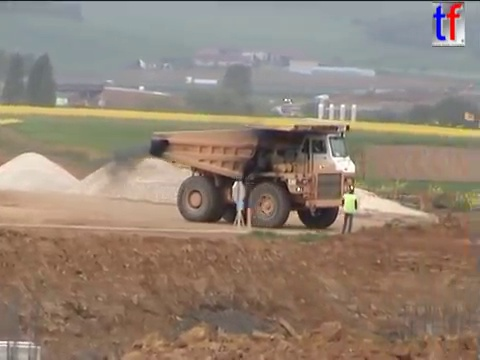truck: (146, 121, 360, 229)
worker: (338, 186, 358, 234)
